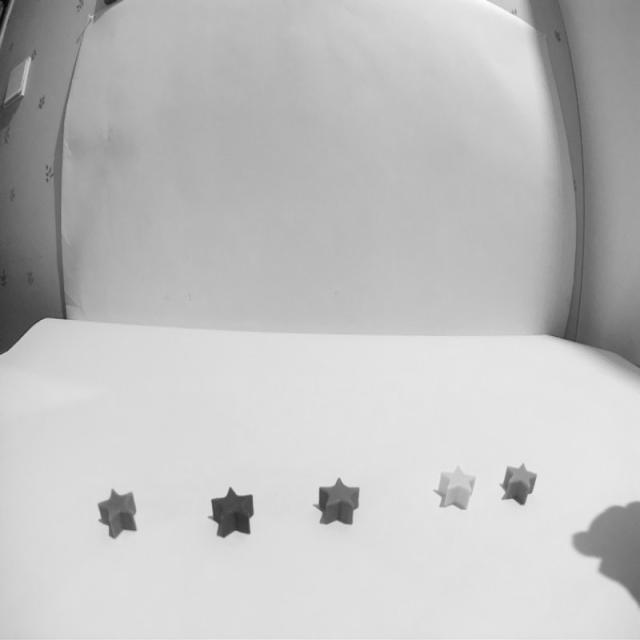star: (209, 486, 254, 537), (317, 477, 361, 525), (97, 488, 138, 539), (435, 466, 477, 510), (501, 462, 538, 505)
